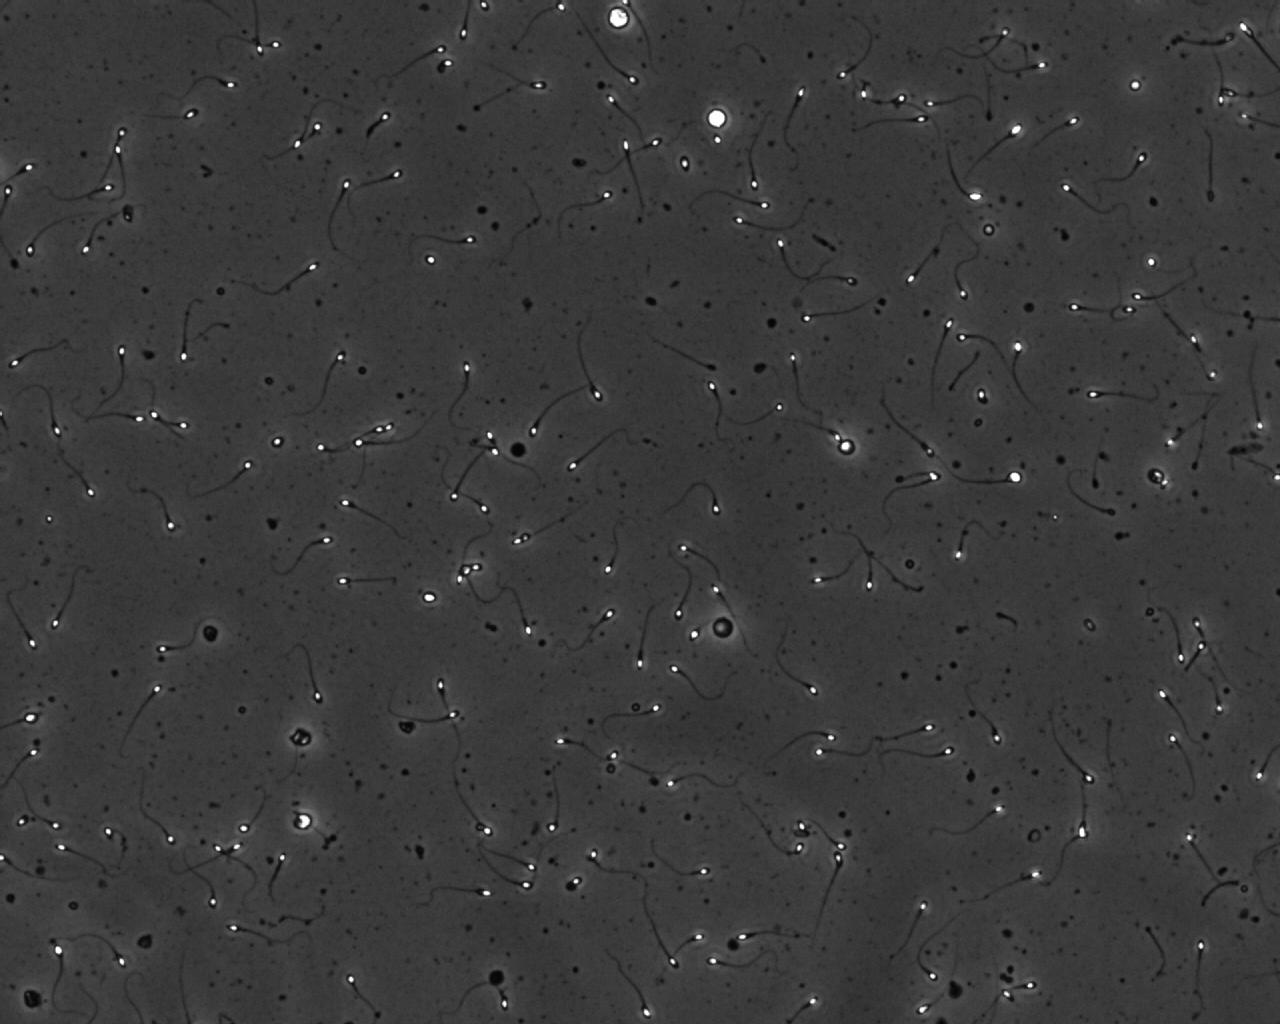cell: (603, 2, 635, 33), (708, 613, 738, 643), (702, 104, 731, 133), (286, 724, 316, 752), (18, 985, 47, 1013), (834, 434, 860, 460), (289, 809, 316, 835)
